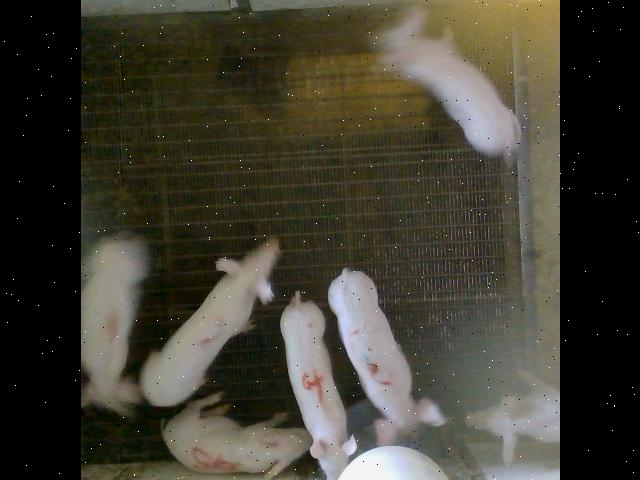pig-1: (80, 236, 146, 415)
pig-2: (140, 239, 279, 405)
pig-3: (328, 269, 444, 445)
pig-4: (279, 291, 356, 480)
pig-5: (161, 392, 311, 479)
